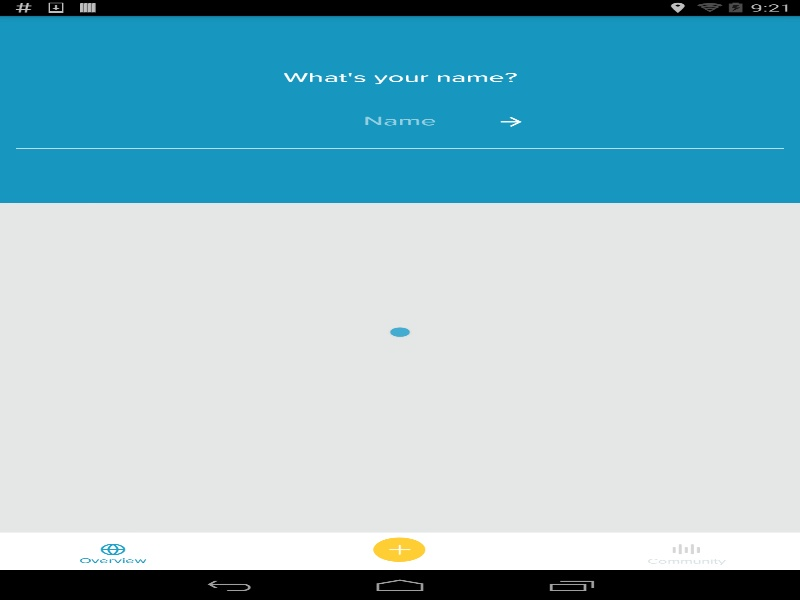Input: (310, 110, 490, 131)
